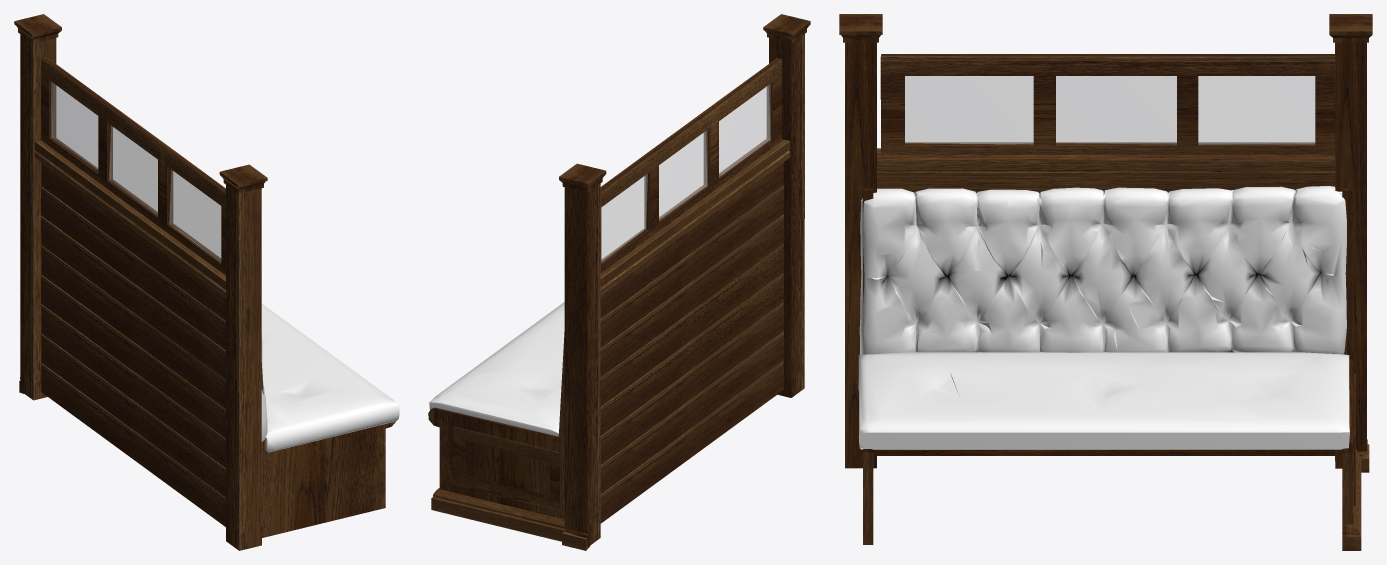
Rendered from Furniture 2.FBX.
3 renders of one model, left to right at view 1: azimuth 30°, elevation 25°; view 2: azimuth 150°, elevation 25°; view 3: azimuth 270°, elevation 25°, orthographic. The views are drawn at different scales.
Visible parts, largest first — view 1: Furniture 2; view 2: Furniture 2; view 3: Furniture 2.
Part boxes in pixels (x1,y1,x2,y2): Furniture 2: (14, 14, 399, 550); Furniture 2: (428, 14, 810, 550); Furniture 2: (839, 14, 1372, 550).
Bounding box in the file's own units: 29.05 × 60.35 × 65.96.
